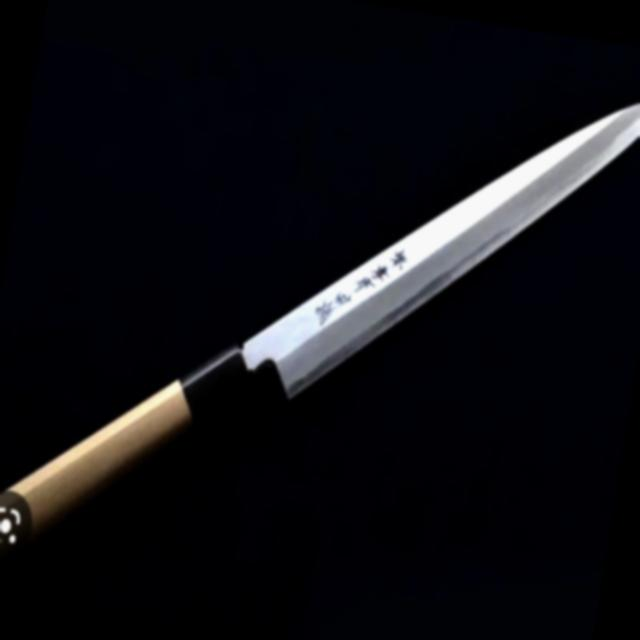knife: (0, 93, 640, 576)
